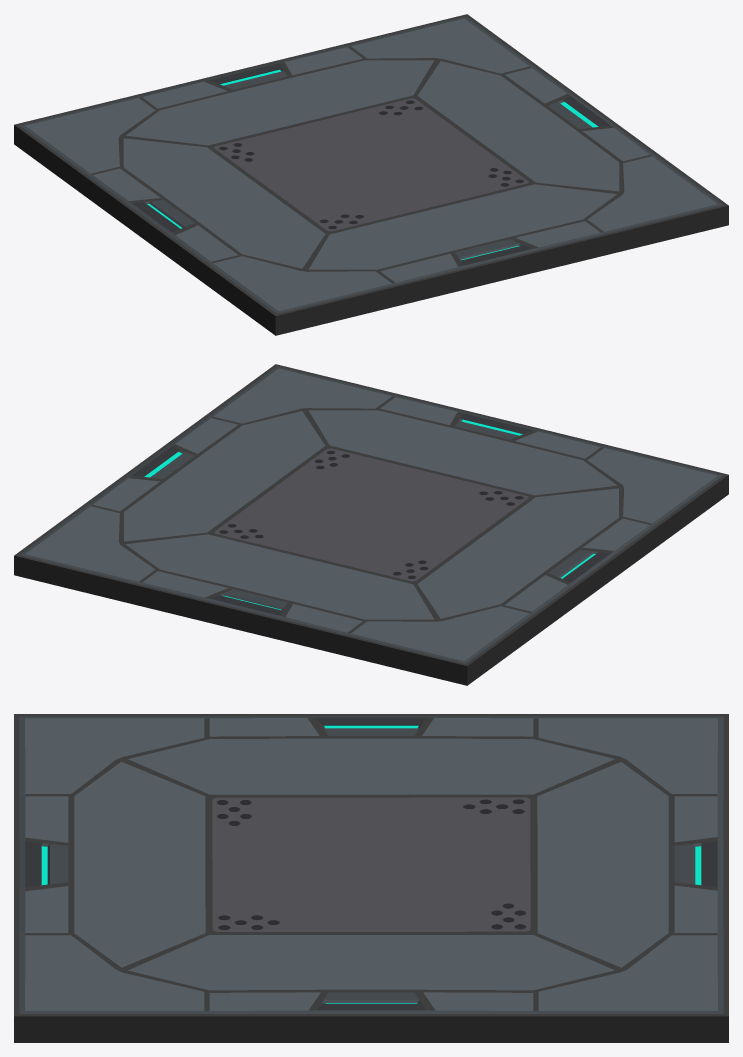
The model's file is SM_Bld_Floor_09.fbx.
3 renders of one model, top to bottom at view 1: azimuth 30°, elevation 25°; view 2: azimuth 150°, elevation 25°; view 3: azimuth 270°, elevation 25°, orthographic. The views are drawn at different scales.
Parts seen in each view (by area): view 1: SM_Bld_Floor_09; view 2: SM_Bld_Floor_09; view 3: SM_Bld_Floor_09.
Boxes of the visible parts, x1=… form: SM_Bld_Floor_09: x1=14, y1=14, x2=728, y2=335; SM_Bld_Floor_09: x1=14, y1=364, x2=728, y2=685; SM_Bld_Floor_09: x1=14, y1=714, x2=728, y2=1042.
Bounding box in the file's own units: 500 × 21.41 × 500.
1 material, 1 textured.
